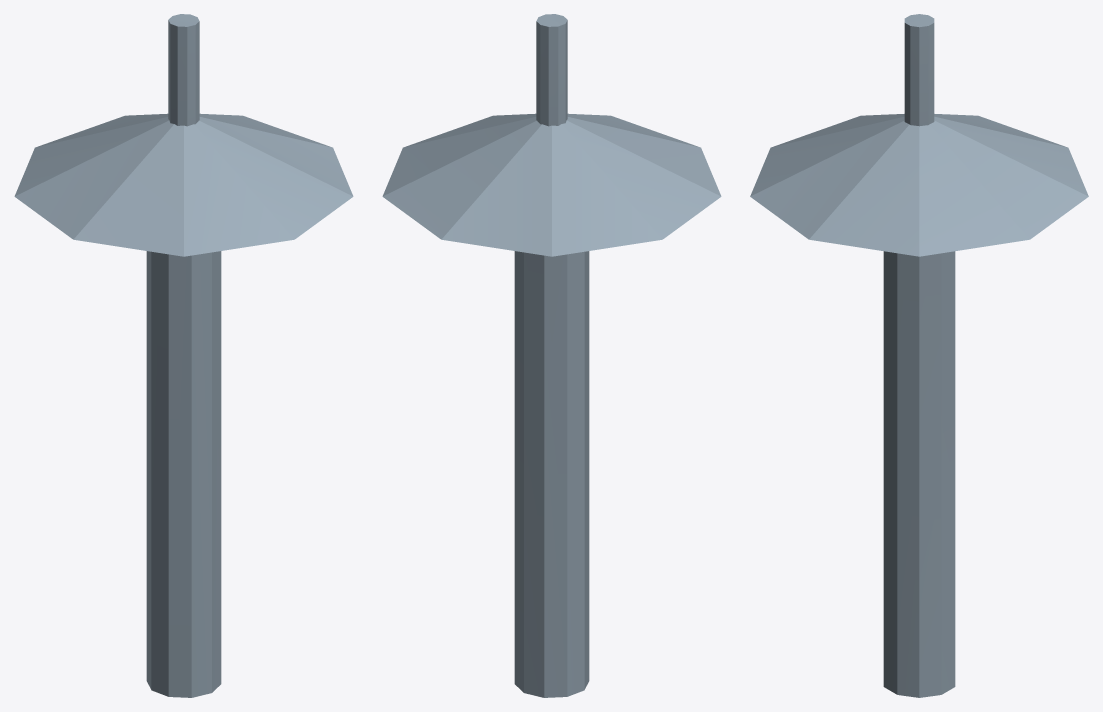
Rendered from satellite_dish-08.glb.
3 renders of one model, left to right at view 1: azimuth 30°, elevation 25°; view 2: azimuth 150°, elevation 25°; view 3: azimuth 270°, elevation 25°, orthographic.
Visible parts, largest first — view 1: world; view 2: world; view 3: world.
Boxes of the visible parts, <box> form: world: <box>14,14,353,697</box>; world: <box>382,14,721,697</box>; world: <box>750,14,1088,697</box>.
Bounding box in the file's own units: 1.07 × 2.33 × 1.08.
